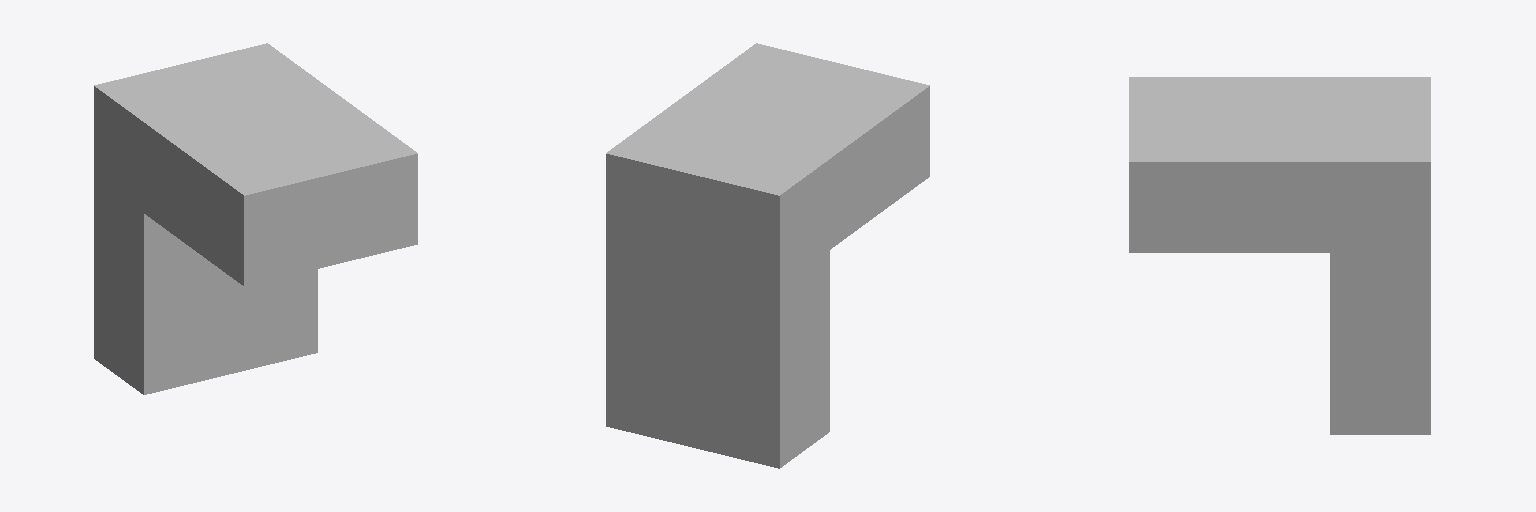
The model's file is E2-Rep06-p04.obj.
3 renders of one model, left to right at view 1: azimuth 30°, elevation 25°; view 2: azimuth 150°, elevation 25°; view 3: azimuth 270°, elevation 25°, orthographic.
Visible parts, largest first — view 1: mesh2, mesh4, mesh6, mesh1; view 2: mesh5, mesh2, mesh4; view 3: mesh3, mesh2.
Boxes of the visible parts, box(x1,y1,x2,y2) form: mesh2: box(94, 43, 417, 195); mesh4: box(94, 86, 243, 394); mesh6: box(144, 214, 317, 394); mesh1: box(244, 154, 417, 286); mesh5: box(606, 154, 779, 468); mesh2: box(606, 43, 929, 195); mesh4: box(780, 86, 929, 467); mesh3: box(1129, 162, 1430, 434); mesh2: box(1129, 77, 1430, 161).
Size of the model in its own units: 0.01 by 0.015 by 0.015.